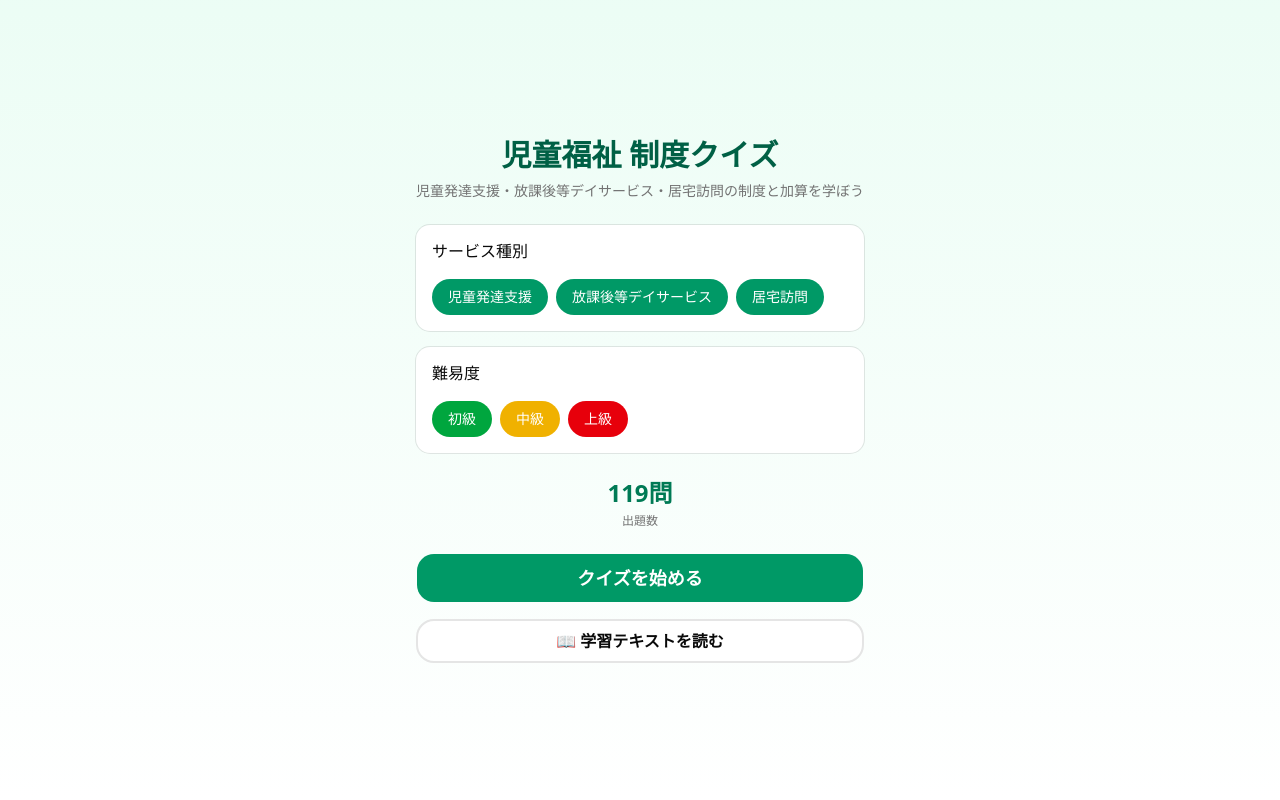
StartScreen › disables start button when no services selected
Step 1. Click the button "児童発達支援" → (490, 297), box [432,279,548,315]
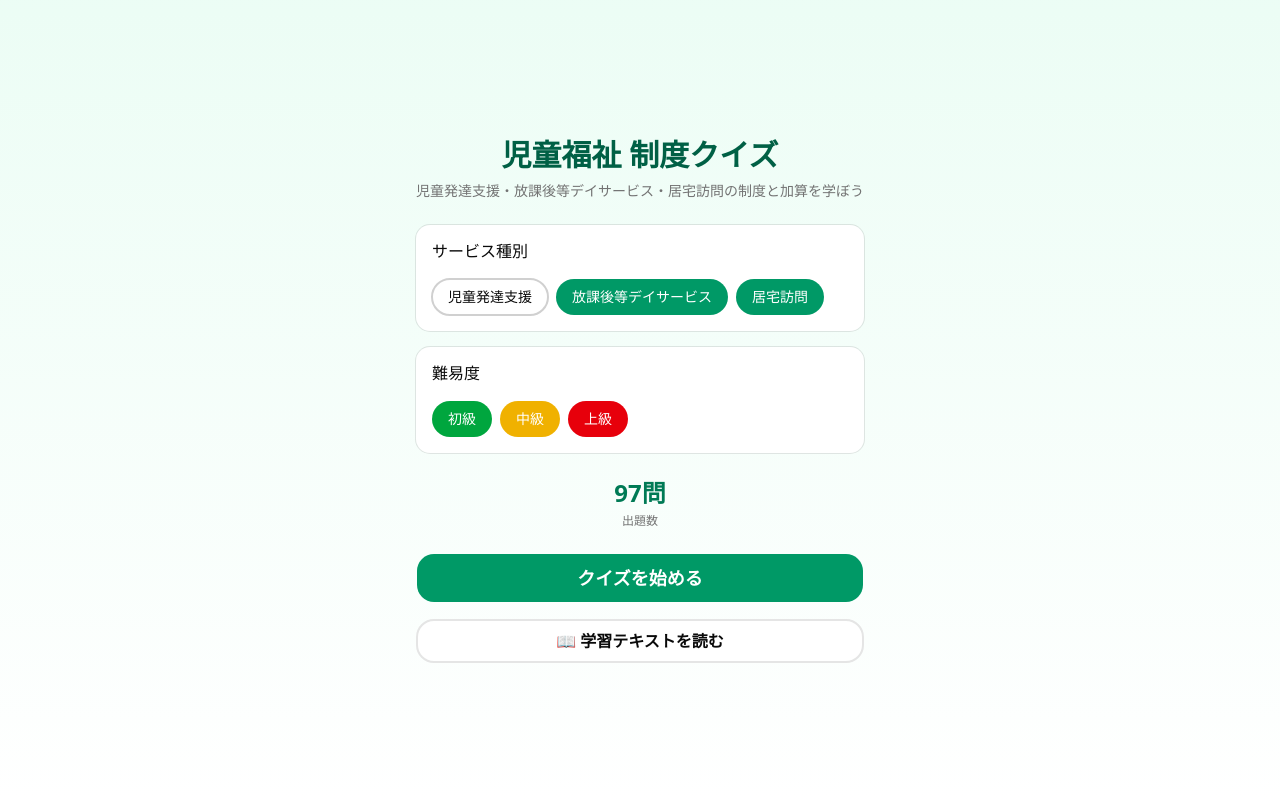
Step 2. Click the button "放課後等デイサービス" → (642, 297), box [556,279,728,315]
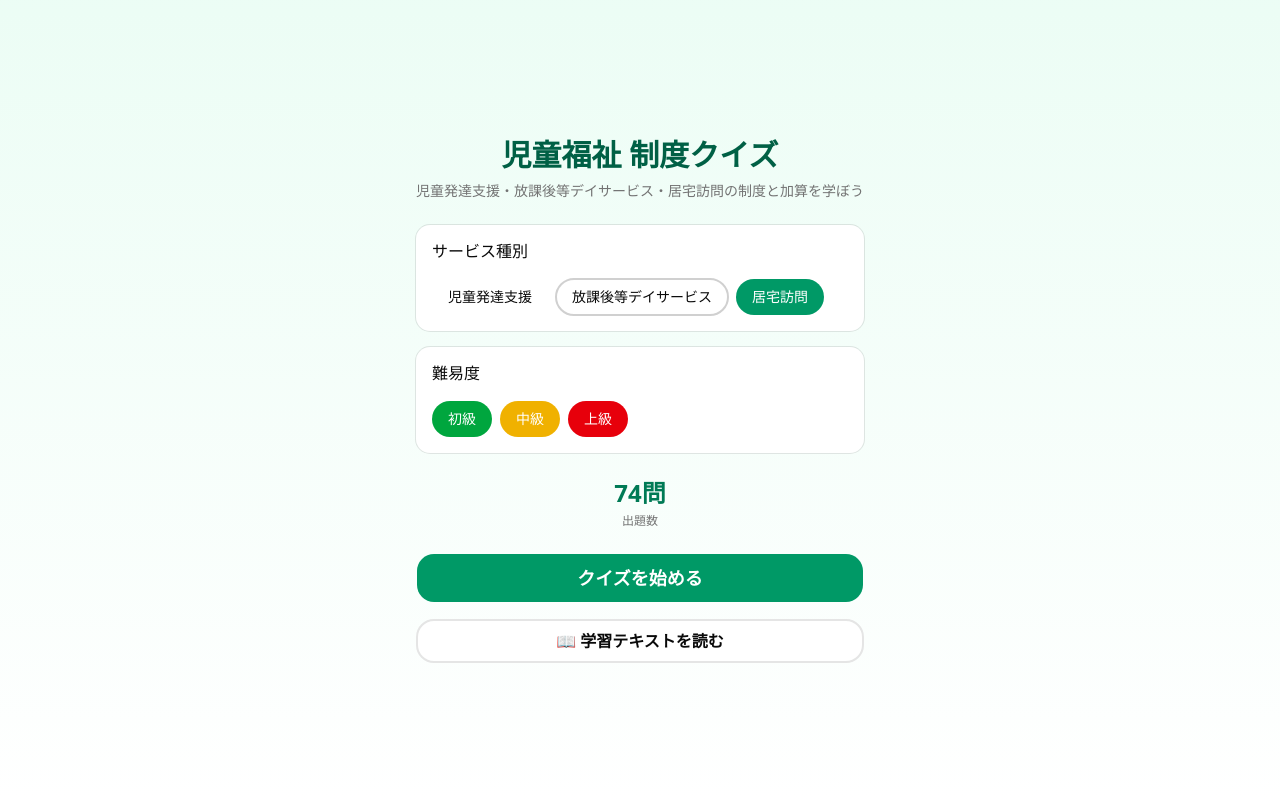
Step 3. Click the button "居宅訪問" → (780, 297), box [736,279,824,315]
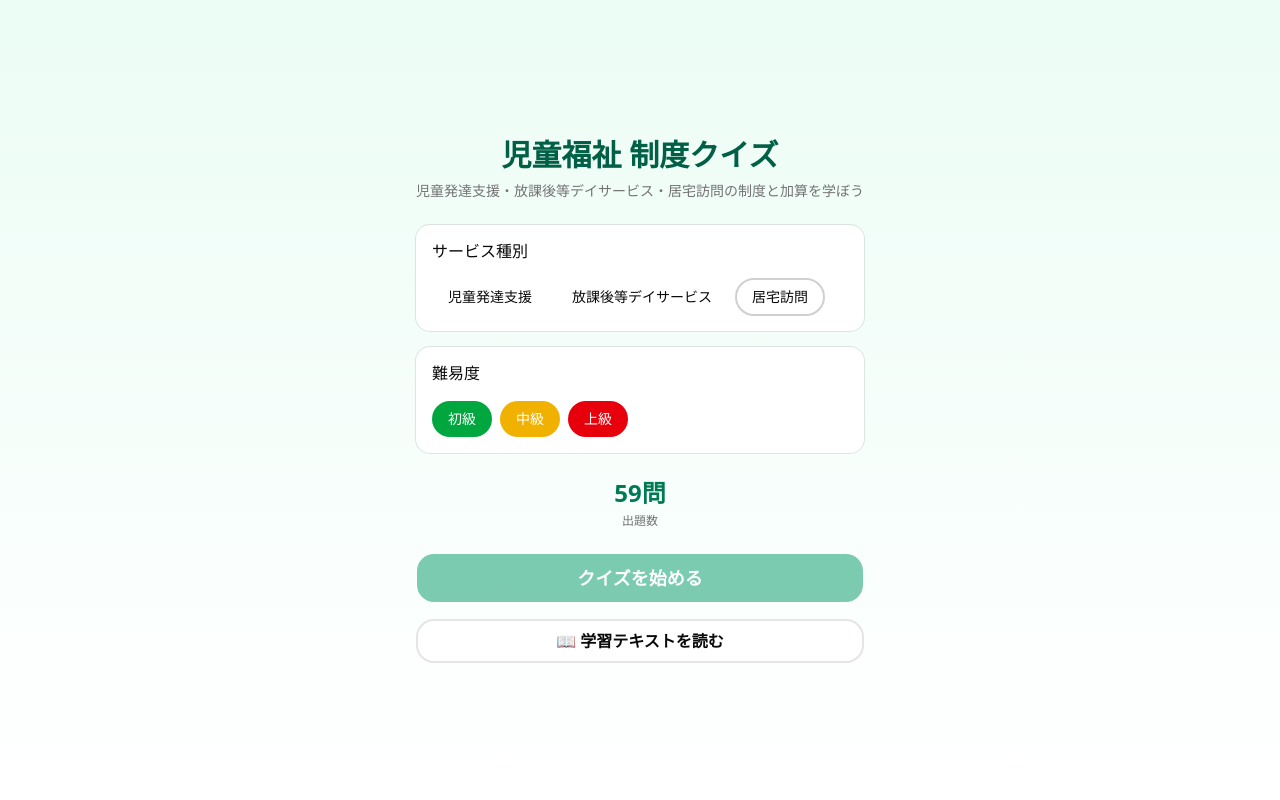
Expected: the button "クイズを始める" is disabled, [416,553,864,603]
